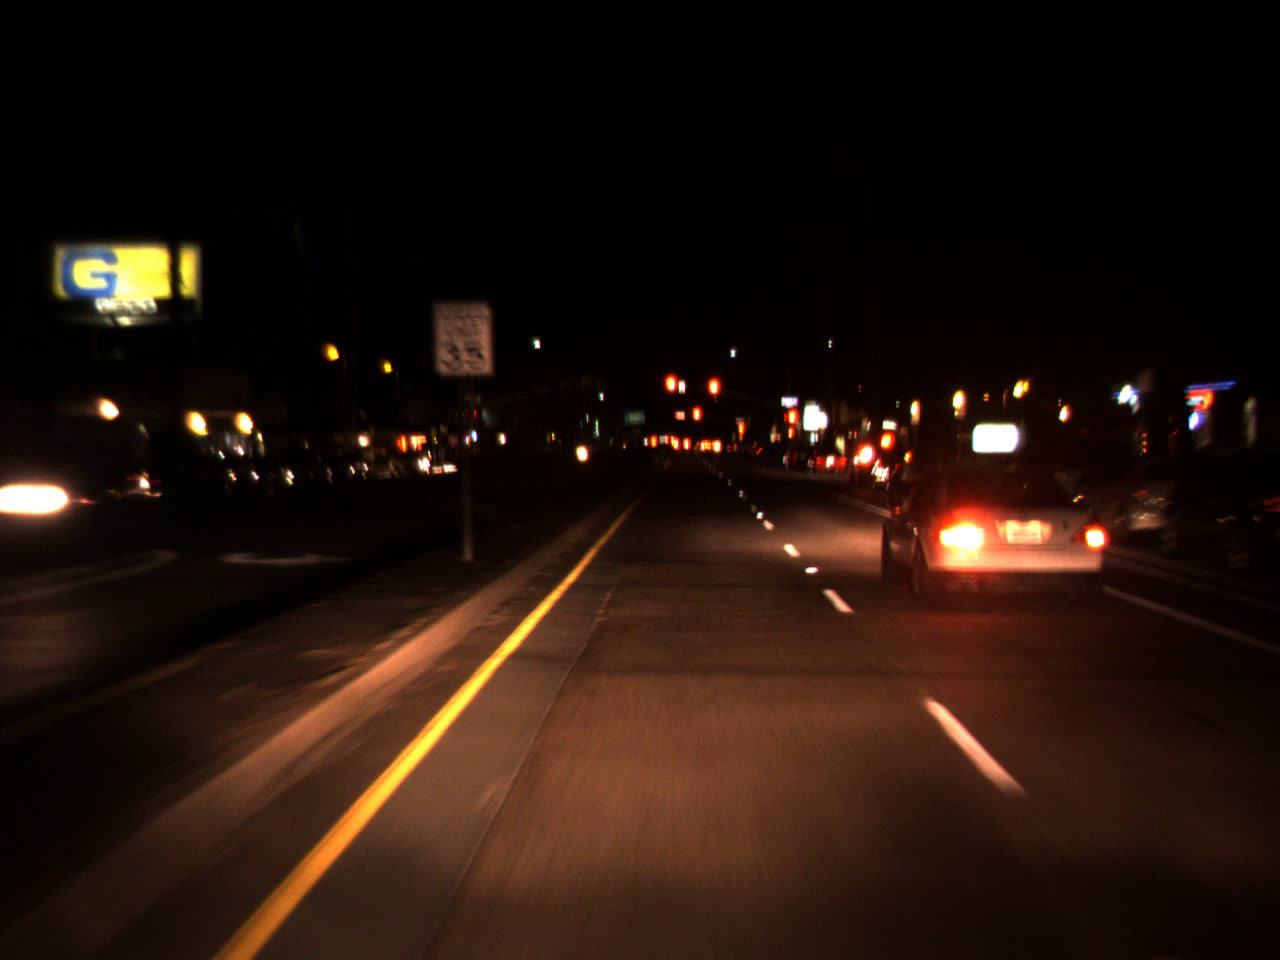stop: (784, 404, 803, 444), (663, 371, 681, 411), (706, 375, 722, 415), (691, 403, 703, 438), (736, 421, 746, 453)
